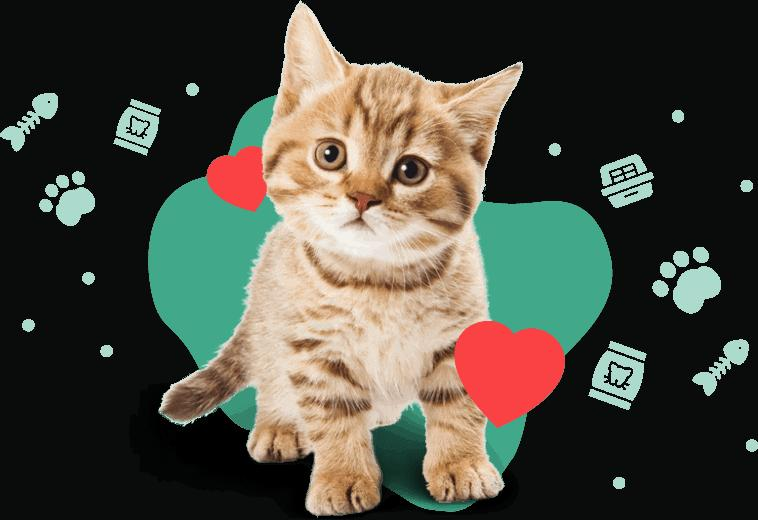Cat: (259, 13, 524, 257)
